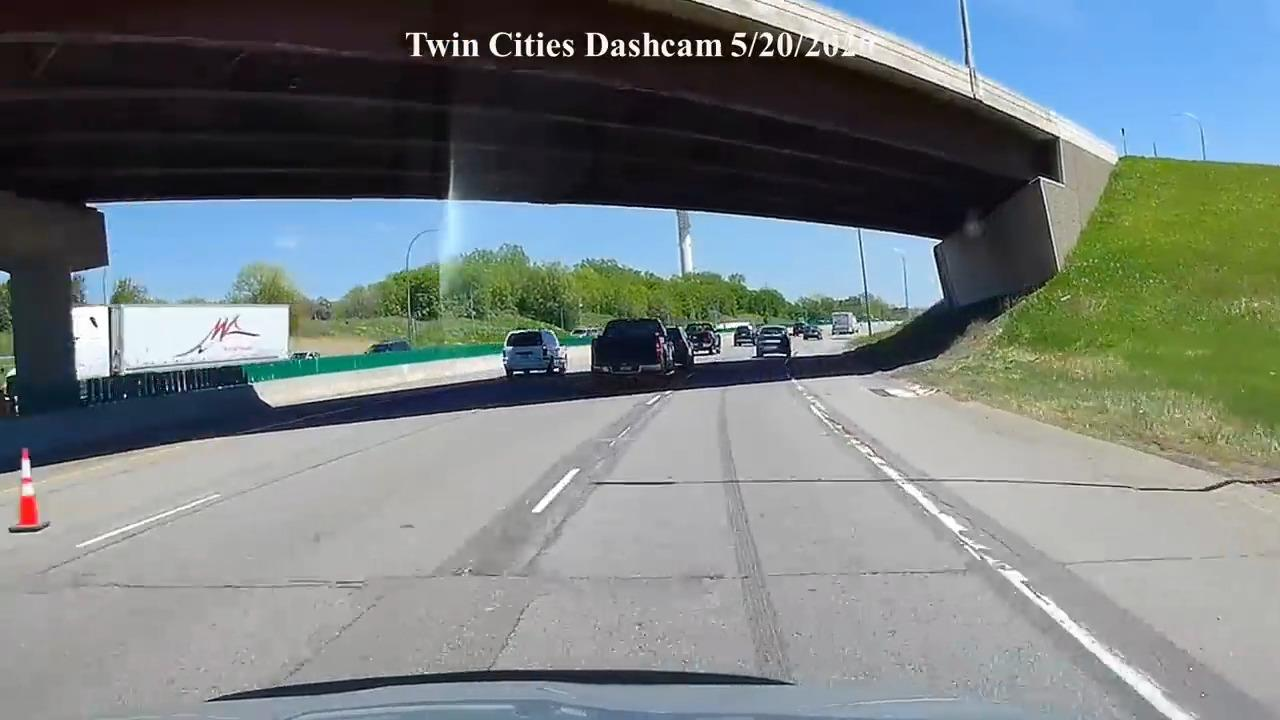car: (501, 329, 568, 379), (365, 339, 412, 354)
traffic cone: (7, 447, 50, 533)
